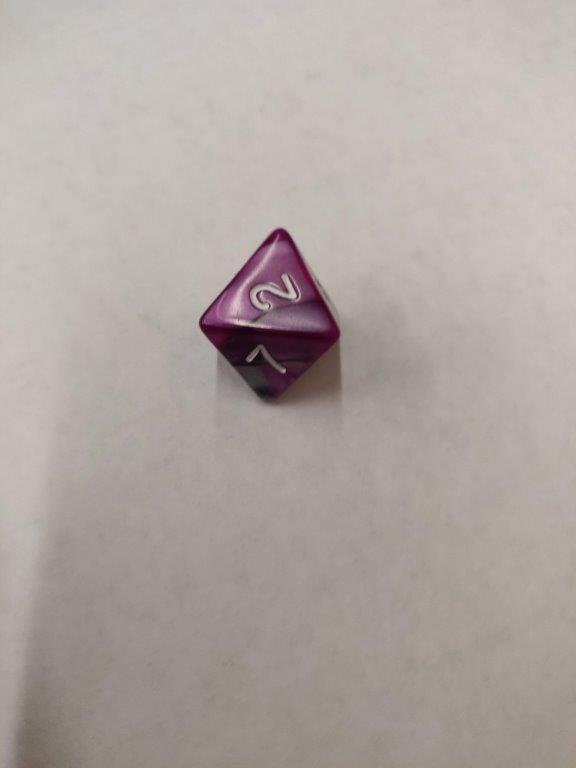d8-2: (197, 231, 340, 404)
